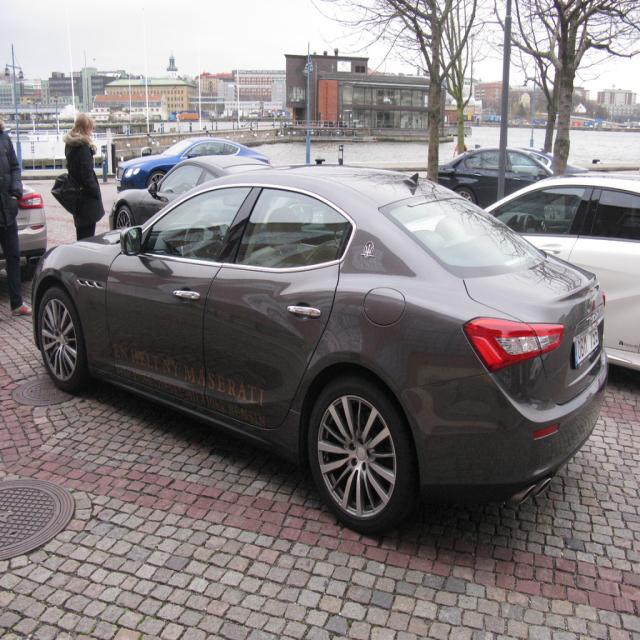car: (19, 160, 604, 541)
